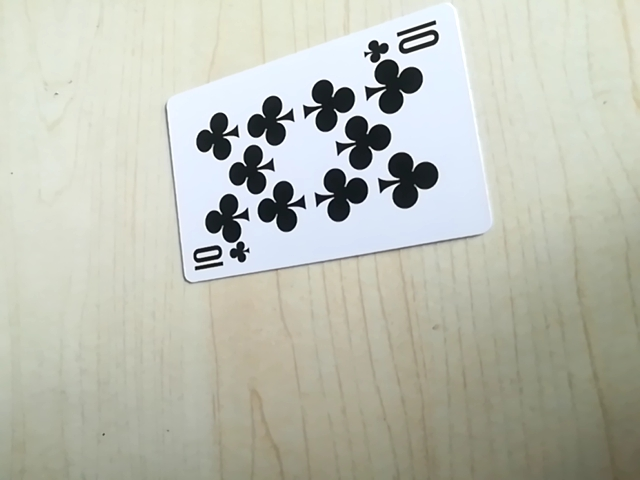mh 10: (360, 18, 450, 63), (187, 238, 253, 280)
